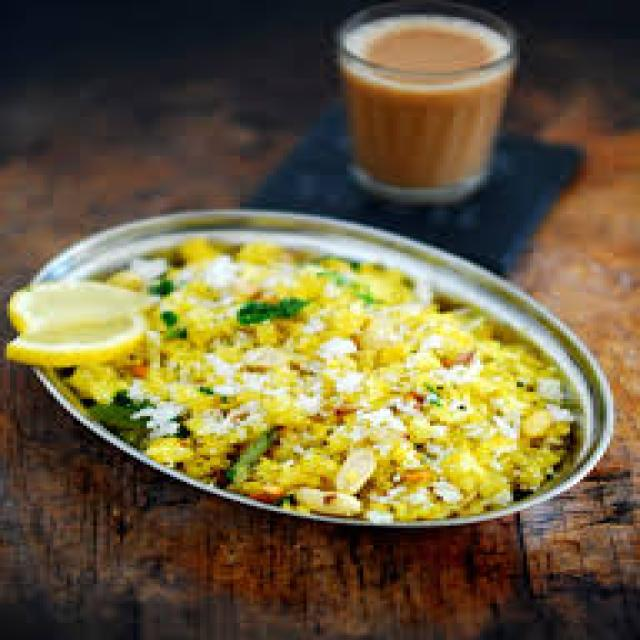POHA: (94, 242, 578, 507)
